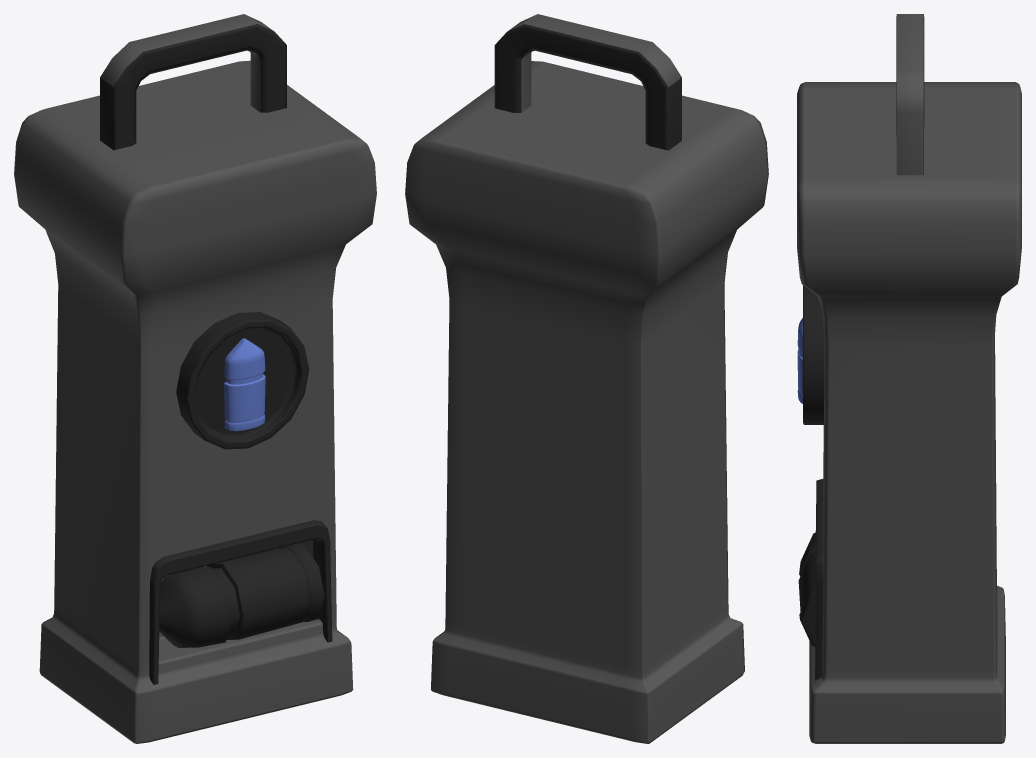
File: _Small_ammo_bonus_not_ok.fbx
3 views of the same model, side by side, from view 1: azimuth 30°, elevation 25°; view 2: azimuth 150°, elevation 25°; view 3: azimuth 270°, elevation 25° (orthographic).
Parts seen in each view (by area): view 1: Small_ammo_bonus_not_ok; view 2: Small_ammo_bonus_not_ok; view 3: Small_ammo_bonus_not_ok.
Boxes of the visible parts, box(x1,y1,x2,y2) form: Small_ammo_bonus_not_ok: box(14, 14, 376, 743); Small_ammo_bonus_not_ok: box(405, 14, 768, 743); Small_ammo_bonus_not_ok: box(797, 14, 1021, 743).
Bounding box in the file's own units: 44.18 × 108 × 33.81.
Materials: 1 (1 with a texture image).
